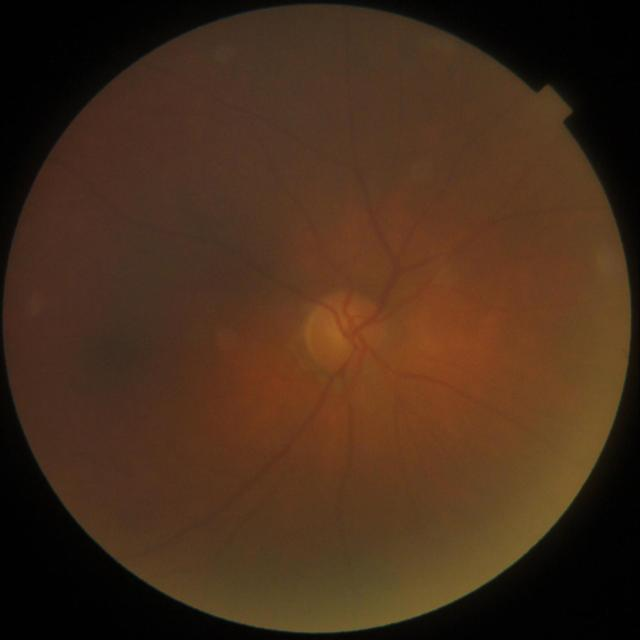OC: (329, 321, 359, 350)
OD: (306, 295, 381, 371)
